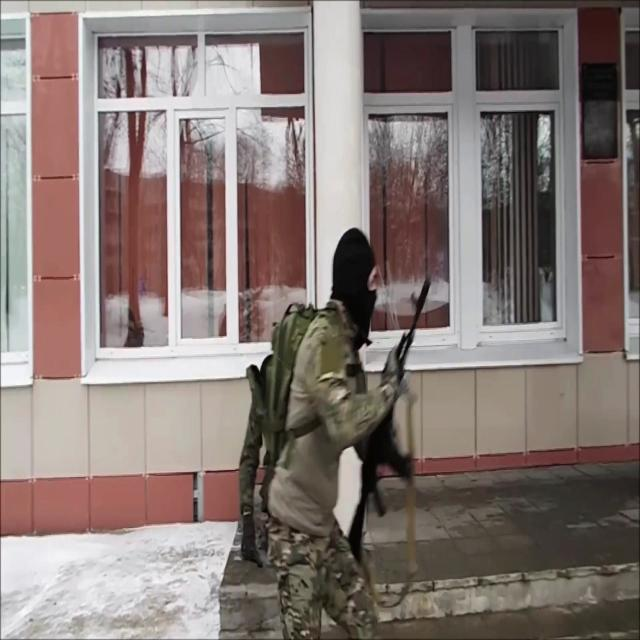gun: (264, 226, 433, 640), (345, 275, 432, 564)
